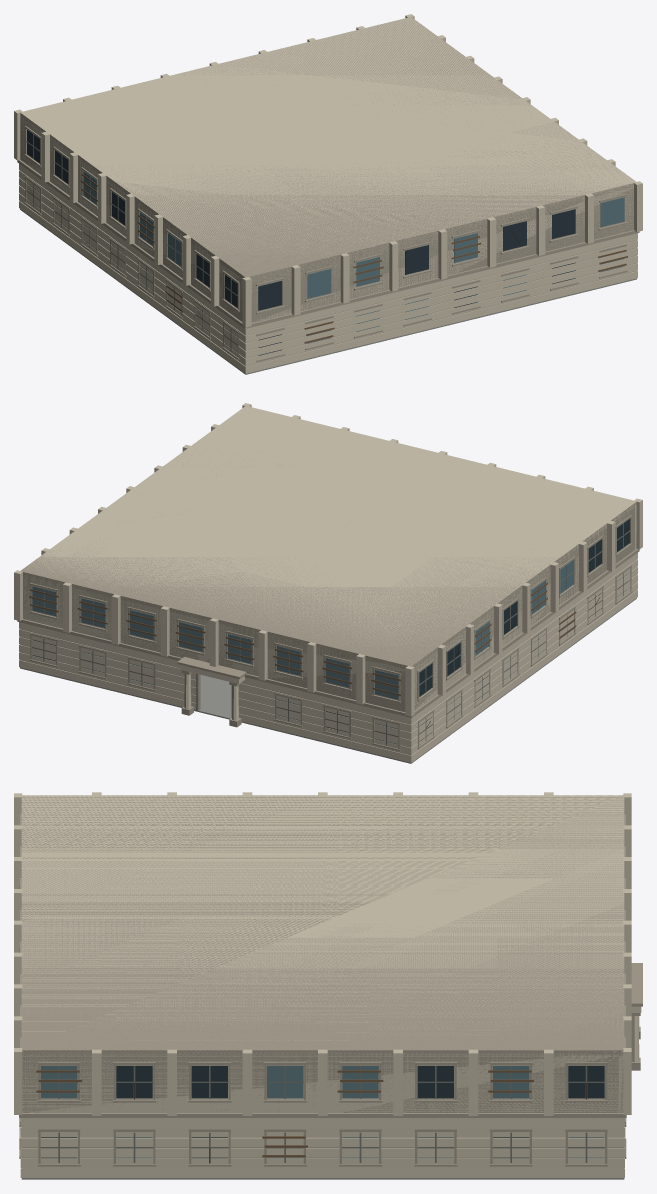
File: tw_stone_32_base.glb
3 renders of one model, top to bottom at view 1: azimuth 30°, elevation 25°; view 2: azimuth 150°, elevation 25°; view 3: azimuth 270°, elevation 25°, orthographic. The views are drawn at different scales.
Visible parts, largest first — view 1: tw_stone_32_base; view 2: tw_stone_32_base; view 3: tw_stone_32_base.
Boxes of the visible parts, <box> form: tw_stone_32_base: <box>14,14,642,374</box>; tw_stone_32_base: <box>14,403,642,763</box>; tw_stone_32_base: <box>14,792,642,1179</box>.
Size of what is drawn, in the model's own units: 32.97 by 7.6 by 33.4.
3 materials, 3 textured.
